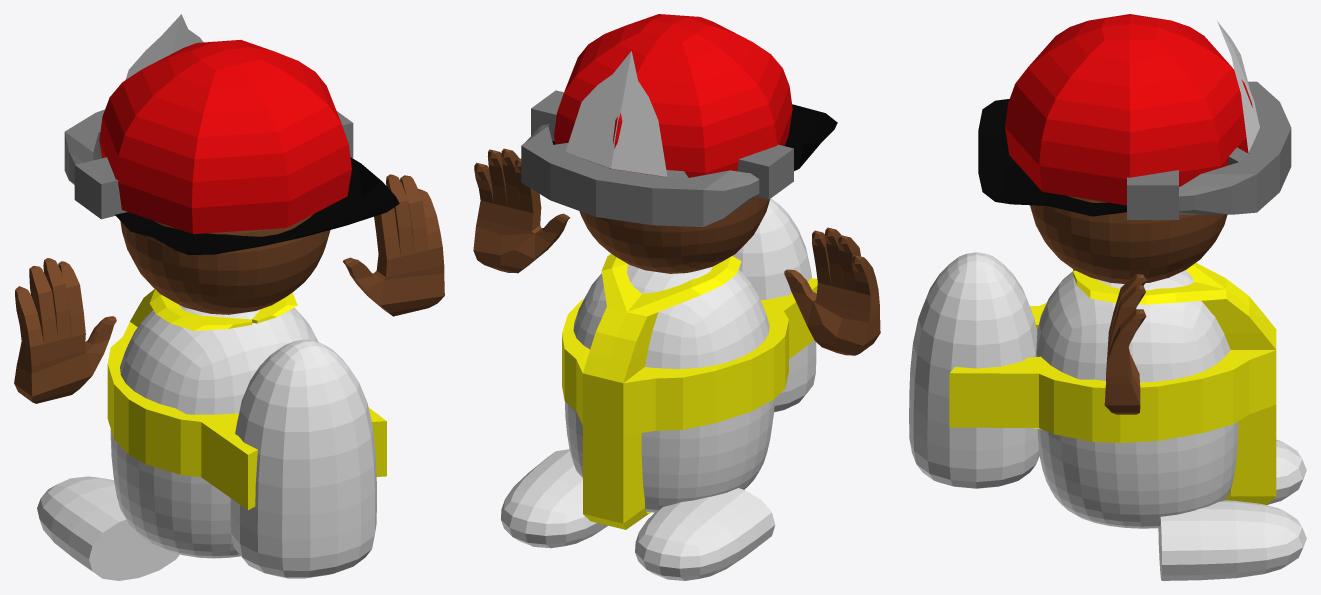
File: PersonajeUnity.fbx
3 renders of one model, left to right at view 1: azimuth 30°, elevation 25°; view 2: azimuth 150°, elevation 25°; view 3: azimuth 270°, elevation 25°, orthographic. The views are drawn at different scales.
Parts seen in each view (by area): view 1: Cubo, Cubo.010, Cubo.004, Cubo.009, Cubo.003, Cubo.008, Cubo.007, Cubo.006, Plano, Cubo.001, Cubo.002; view 2: Cubo.009, Cubo, Cubo.004, Cubo.001, Cubo.006, Cubo.008, Cubo.002, Cubo.003, Cubo.007, Cubo.005, Cubo.010, Plano; view 3: Cubo, Cubo.009, Cubo.004, Cubo.010, Cubo.003, Cubo.005, Cubo.001, Plano, Cubo.007, Cubo.006, Cubo.002.
Part boxes in pixels (x1=…): Cubo: x1=99, y1=40, x2=351, y2=233; Cubo.010: x1=230, y1=339, x2=376, y2=578; Cubo.004: x1=110, y1=305, x2=318, y2=558; Cubo.009: x1=107, y1=289, x2=386, y2=509; Cubo.003: x1=120, y1=214, x2=330, y2=314; Cubo.008: x1=14, y1=258, x2=116, y2=403; Cubo.007: x1=343, y1=174, x2=444, y2=316; Cubo.006: x1=37, y1=476, x2=179, y2=580; Plano: x1=115, y1=157, x2=399, y2=255; Cubo.001: x1=64, y1=109, x2=353, y2=219; Cubo.002: x1=125, y1=14, x2=203, y2=79; Cubo.009: x1=562, y1=253, x2=817, y2=529; Cubo: x1=554, y1=14, x2=792, y2=177; Cubo.004: x1=565, y1=264, x2=775, y2=512; Cubo.001: x1=521, y1=90, x2=793, y2=226; Cubo.006: x1=635, y1=488, x2=775, y2=580; Cubo.008: x1=784, y1=227, x2=880, y2=355; Cubo.002: x1=565, y1=51, x2=667, y2=176; Cubo.003: x1=579, y1=196, x2=769, y2=273; Cubo.007: x1=473, y1=148, x2=569, y2=273; Cubo.005: x1=501, y1=449, x2=607, y2=548; Cubo.010: x1=733, y1=198, x2=816, y2=412; Plano: x1=552, y1=104, x2=837, y2=170; Cubo: x1=1005, y1=14, x2=1252, y2=205; Cubo.009: x1=949, y1=263, x2=1276, y2=505; Cubo.004: x1=1036, y1=270, x2=1238, y2=528; Cubo.010: x1=909, y1=252, x2=1039, y2=488; Cubo.003: x1=1030, y1=196, x2=1227, y2=283; Cubo.005: x1=1158, y1=500, x2=1306, y2=580; Cubo.001: x1=1127, y1=81, x2=1291, y2=219; Plano: x1=978, y1=99, x2=1126, y2=216; Cubo.007: x1=1104, y1=274, x2=1146, y2=414; Cubo.006: x1=1267, y1=439, x2=1306, y2=504; Cubo.002: x1=1217, y1=21, x2=1259, y2=152.
Bounding box in the file's own units: 385 × 465 × 324.
